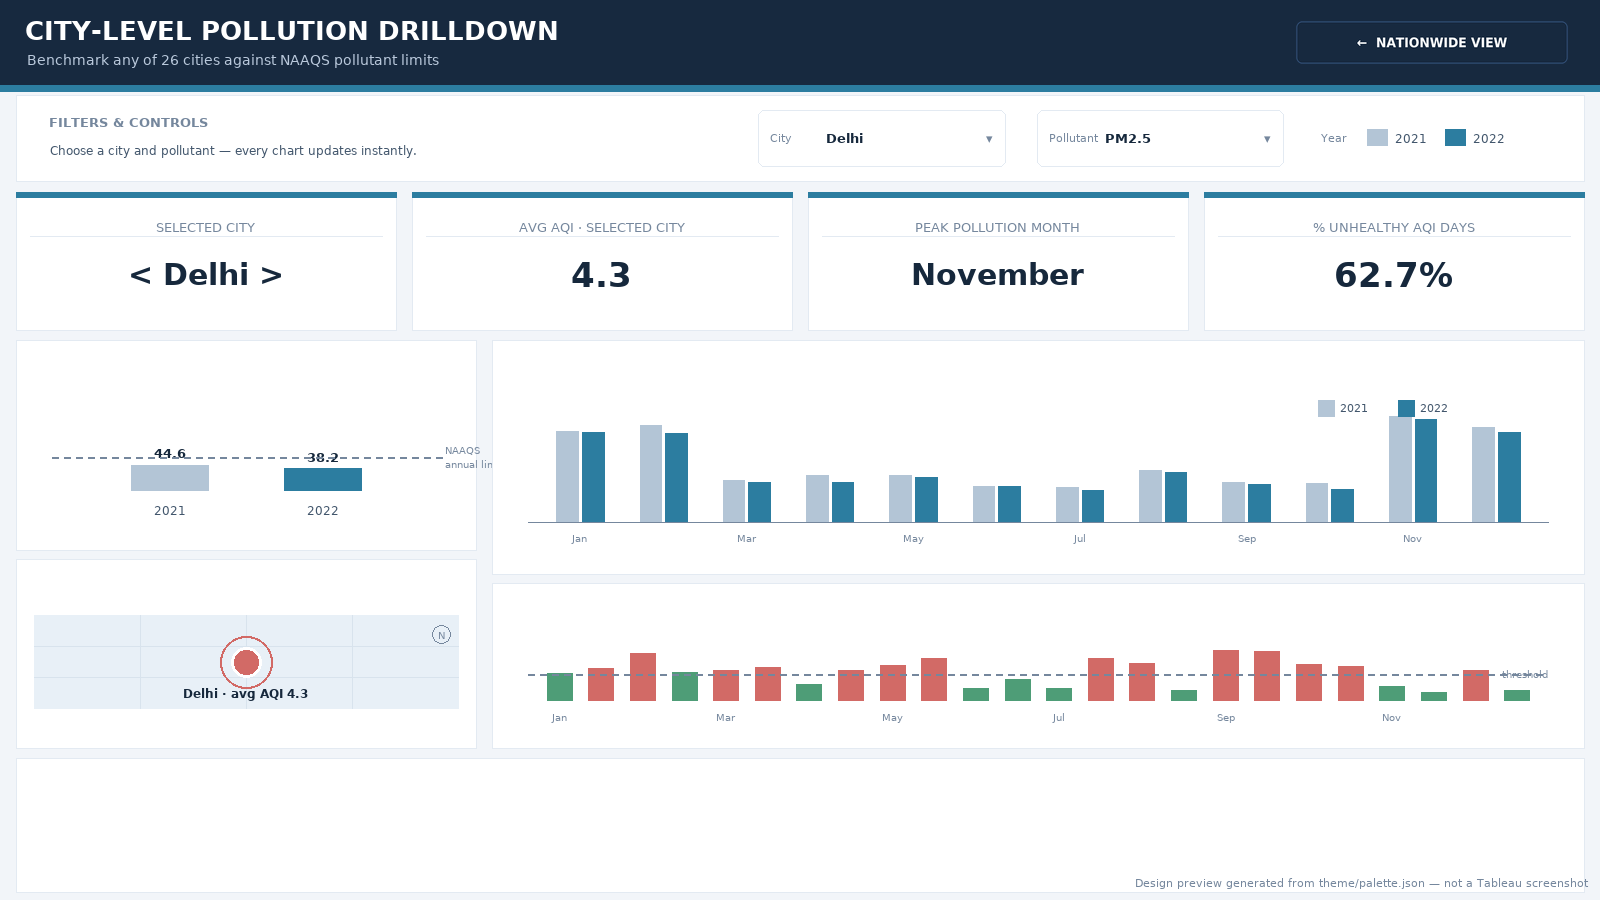

The page's visual inventory and layout, read from the dashboard file:
{"tool":"tableau","page":{"name":"City Drilldown","canvas":[1000,1000],"units":"permille","ordinal":1},"visuals":[{"type":"text","box":[18.4,166.7,428.6,645.8]},{"type":"filter","title":"City Selector","param":"[federated.0r5ypuv12cy9kq13t07co0hzn2wb].[none:city:nk]","box":[473.5,166.7,157.1,645.8]},{"type":"parameter","param":"[Parameters].[Parameter 1]","box":[651,166.7,157.1,645.8]},{"type":"legend","title":"Monthly Avg Concentration","param":"[federated.0r5ypuv12cy9kq13t07co0hzn2wb].[yr:date:ok]","box":[828.6,166.7,157.1,645.8]},{"type":"text","box":[12,179,620,673.7]},{"type":"worksheet","title":"City Selector","mark":"Automatic","box":[10,214,237.5,153]},{"type":"worksheet","title":"Avg AQI ","mark":"Automatic","box":[257.5,214,237.5,153]},{"type":"worksheet","title":"C Peak Pollution Month","mark":"Automatic","box":[505,214,237.5,153]},{"type":"worksheet","title":"Unhealthy AQI Days","mark":"Automatic","box":[752.5,214,237.5,153]},{"type":"dashboard-object","box":[810,247.4,170,505.3]},{"type":"worksheet","title":"Avg Conc Year","mark":"Bar","rows":["Calculation_481885172320546861"],"cols":["date"],"box":[10,378,288,234]},{"type":"worksheet","title":"Monthly Avg Concentration","mark":"Automatic","rows":["Calculation_481885172320546861"],"cols":["date"],"box":[308,378,682,260]},{"type":"worksheet","title":"City Map","mark":"Automatic","rows":["Calculation_481885172083154961"],"cols":["Calculation_481885172083470354"],"box":[10,622,288,210]},{"type":"worksheet","title":"Percentage of Days","mark":"Automatic","rows":["Calculation_481885172362846274"],"cols":["Calculation_481885172362534976"],"box":[308,648,682,184]},{"type":"text","box":[10,843,980,149]}]}

Visuals, with their boxes on the dashboard's canvas, which has no fixed pixel size, in thousandths of its width and height (x1, y1, x2, y2). These are canvas units, not pixel positions in the 1600x900 screenshot, which may show the page scaled, cropped or inside an application window:
text: pyautogui.locateOnScreen(18, 167, 447, 812)
"City Selector" filter: pyautogui.locateOnScreen(474, 167, 631, 812)
parameter: pyautogui.locateOnScreen(651, 167, 808, 812)
"Monthly Avg Concentration" legend: pyautogui.locateOnScreen(829, 167, 986, 812)
text: pyautogui.locateOnScreen(12, 179, 632, 853)
"City Selector" worksheet: pyautogui.locateOnScreen(10, 214, 248, 367)
"Avg AQI " worksheet: pyautogui.locateOnScreen(258, 214, 495, 367)
"C Peak Pollution Month" worksheet: pyautogui.locateOnScreen(505, 214, 742, 367)
"Unhealthy AQI Days" worksheet: pyautogui.locateOnScreen(752, 214, 990, 367)
dashboard-object: pyautogui.locateOnScreen(810, 247, 980, 753)
"Avg Conc Year" worksheet (Bar marks): pyautogui.locateOnScreen(10, 378, 298, 612)
"Monthly Avg Concentration" worksheet: pyautogui.locateOnScreen(308, 378, 990, 638)
"City Map" worksheet: pyautogui.locateOnScreen(10, 622, 298, 832)
"Percentage of Days" worksheet: pyautogui.locateOnScreen(308, 648, 990, 832)
text: pyautogui.locateOnScreen(10, 843, 990, 992)
